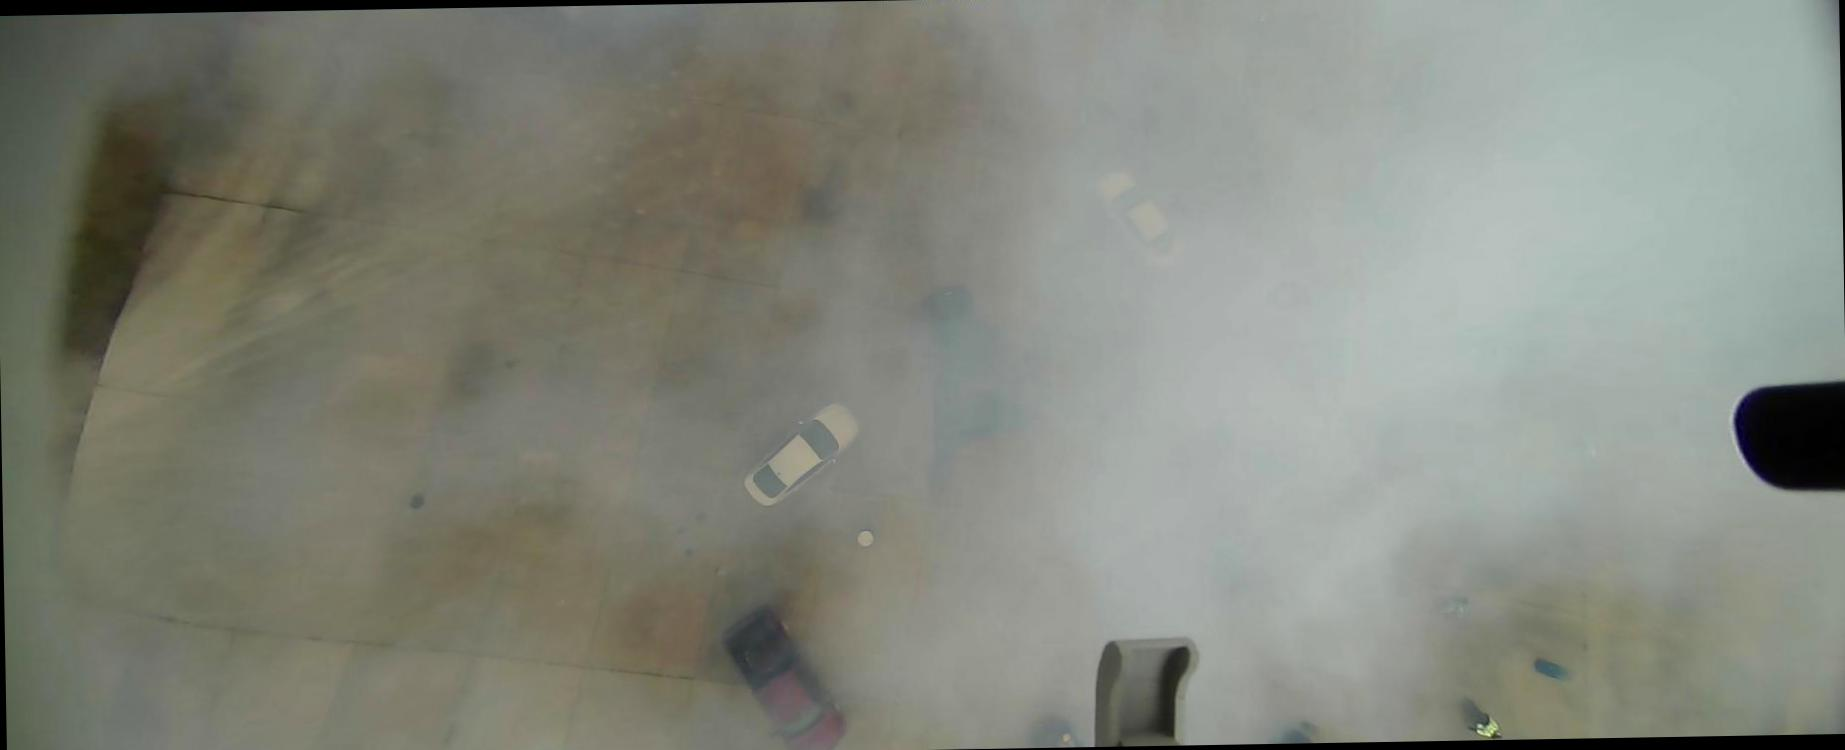vehicle: (720, 600, 848, 749), (740, 401, 860, 507), (926, 285, 1007, 429), (1094, 170, 1186, 271), (1034, 724, 1081, 746), (1274, 728, 1313, 743)
